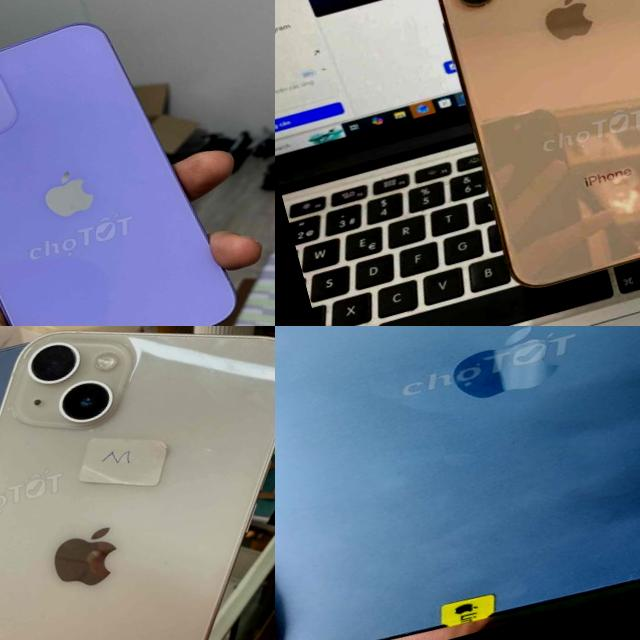gen_12_13: (275, 326, 640, 640), (0, 0, 250, 326)
gen_14: (0, 326, 275, 640)
gen_x_xs: (409, 0, 640, 305)
